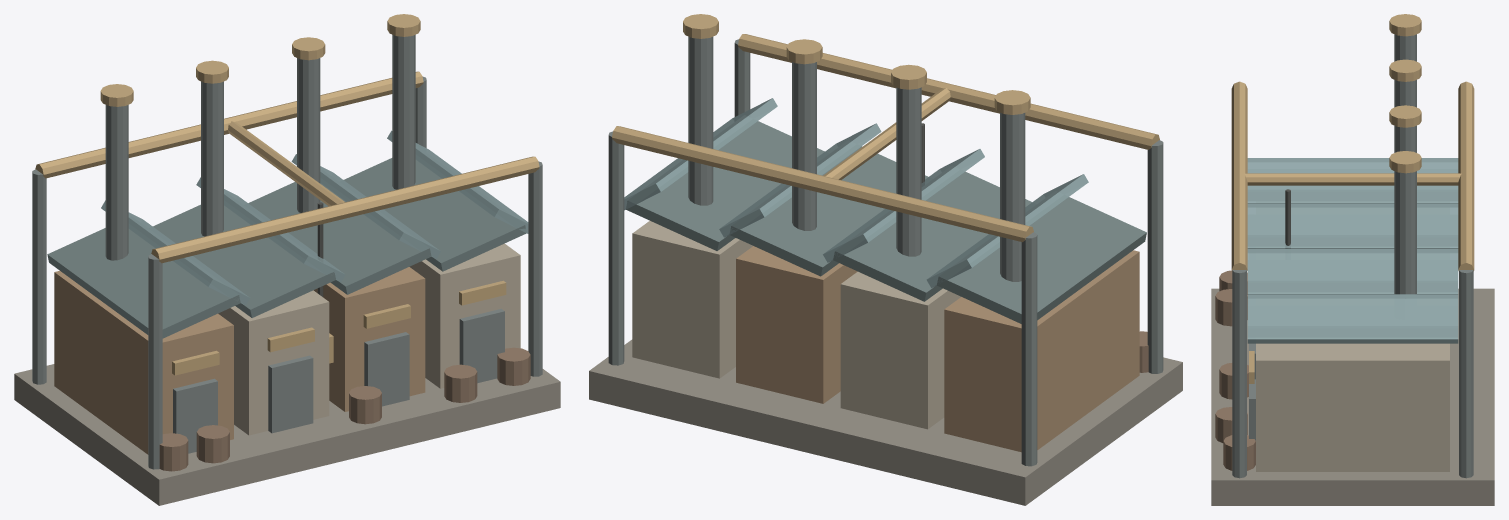
Rendered from tool-works.glb.
3 views of the same model, side by side, from view 1: azimuth 30°, elevation 25°; view 2: azimuth 150°, elevation 25°; view 3: azimuth 270°, elevation 25° (orthographic). The views are drawn at different scales.
Parts seen in each view (by area): view 1: tool_plinth, shop_0, tools_roof_a_0, shop_1, shop_2, tools_roof_a_3, tools_roof_a_1, shop_3, tools_roof_a_2, gantry_cross_front, gantry_cross_back, chimney_0 (+29 smaller); view 2: tool_plinth, shop_0, shop_2, shop_1, shop_3, tools_roof_a_0, tools_roof_a_3, tools_roof_a_1, tools_roof_a_2, gantry_cross_back, gantry_cross_front, gantry_leg_-2.65 (+16 smaller); view 3: shop_3, tool_plinth, tools_roof_b_3, tools_roof_b_2, tools_roof_b_1, tools_roof_b_0, gantry_cross_front, gantry_cross_back, gantry_leg_2.65, gantry_leg2_2.65, chimney_3, gantry_bridge (+17 smaller).
Boxes of the visible parts, box(x1,y1,x2,y2) form: tool_plinth: box(14, 364, 560, 505); shop_0: box(54, 270, 233, 454); tools_roof_a_0: box(47, 216, 240, 338); shop_1: box(218, 290, 329, 435); shop_2: box(313, 267, 425, 411); tools_roof_a_3: box(344, 147, 526, 271); tools_roof_a_1: box(153, 193, 335, 317); shop_3: box(409, 243, 520, 388); tools_roof_a_2: box(248, 170, 431, 294); gantry_cross_front: box(151, 156, 539, 263); gantry_cross_back: box(35, 71, 423, 178); chimney_0: box(105, 105, 128, 260); tool_plinth: box(589, 339, 1182, 505); shop_0: box(944, 250, 1139, 452); shop_2: box(736, 246, 857, 403); shop_1: box(840, 271, 961, 429); shop_3: box(632, 221, 752, 378); tools_roof_a_0: box(937, 191, 1146, 323); tools_roof_a_3: box(626, 115, 824, 250); tools_roof_a_1: box(833, 166, 1031, 301); tools_roof_a_2: box(730, 141, 928, 276); gantry_cross_back: box(612, 126, 1033, 242); gantry_cross_front: box(738, 34, 1159, 149); gantry_leg_-2.65: box(1021, 232, 1037, 466); shop_3: box(1256, 343, 1449, 471); tool_plinth: box(1211, 288, 1494, 505); tools_roof_b_3: box(1247, 294, 1458, 343); tools_roof_b_2: box(1247, 249, 1458, 294); tools_roof_b_1: box(1247, 203, 1458, 248); tools_roof_b_0: box(1247, 158, 1458, 203); gantry_cross_front: box(1231, 81, 1247, 270); gantry_cross_back: box(1458, 81, 1474, 270); gantry_leg_2.65: box(1459, 270, 1473, 478); gantry_leg2_2.65: box(1232, 270, 1246, 478); chimney_3: box(1394, 171, 1416, 294); gantry_bridge: box(1244, 173, 1461, 185).
Bounding box in the file's own units: 5.6 × 4.37 × 3.5.
